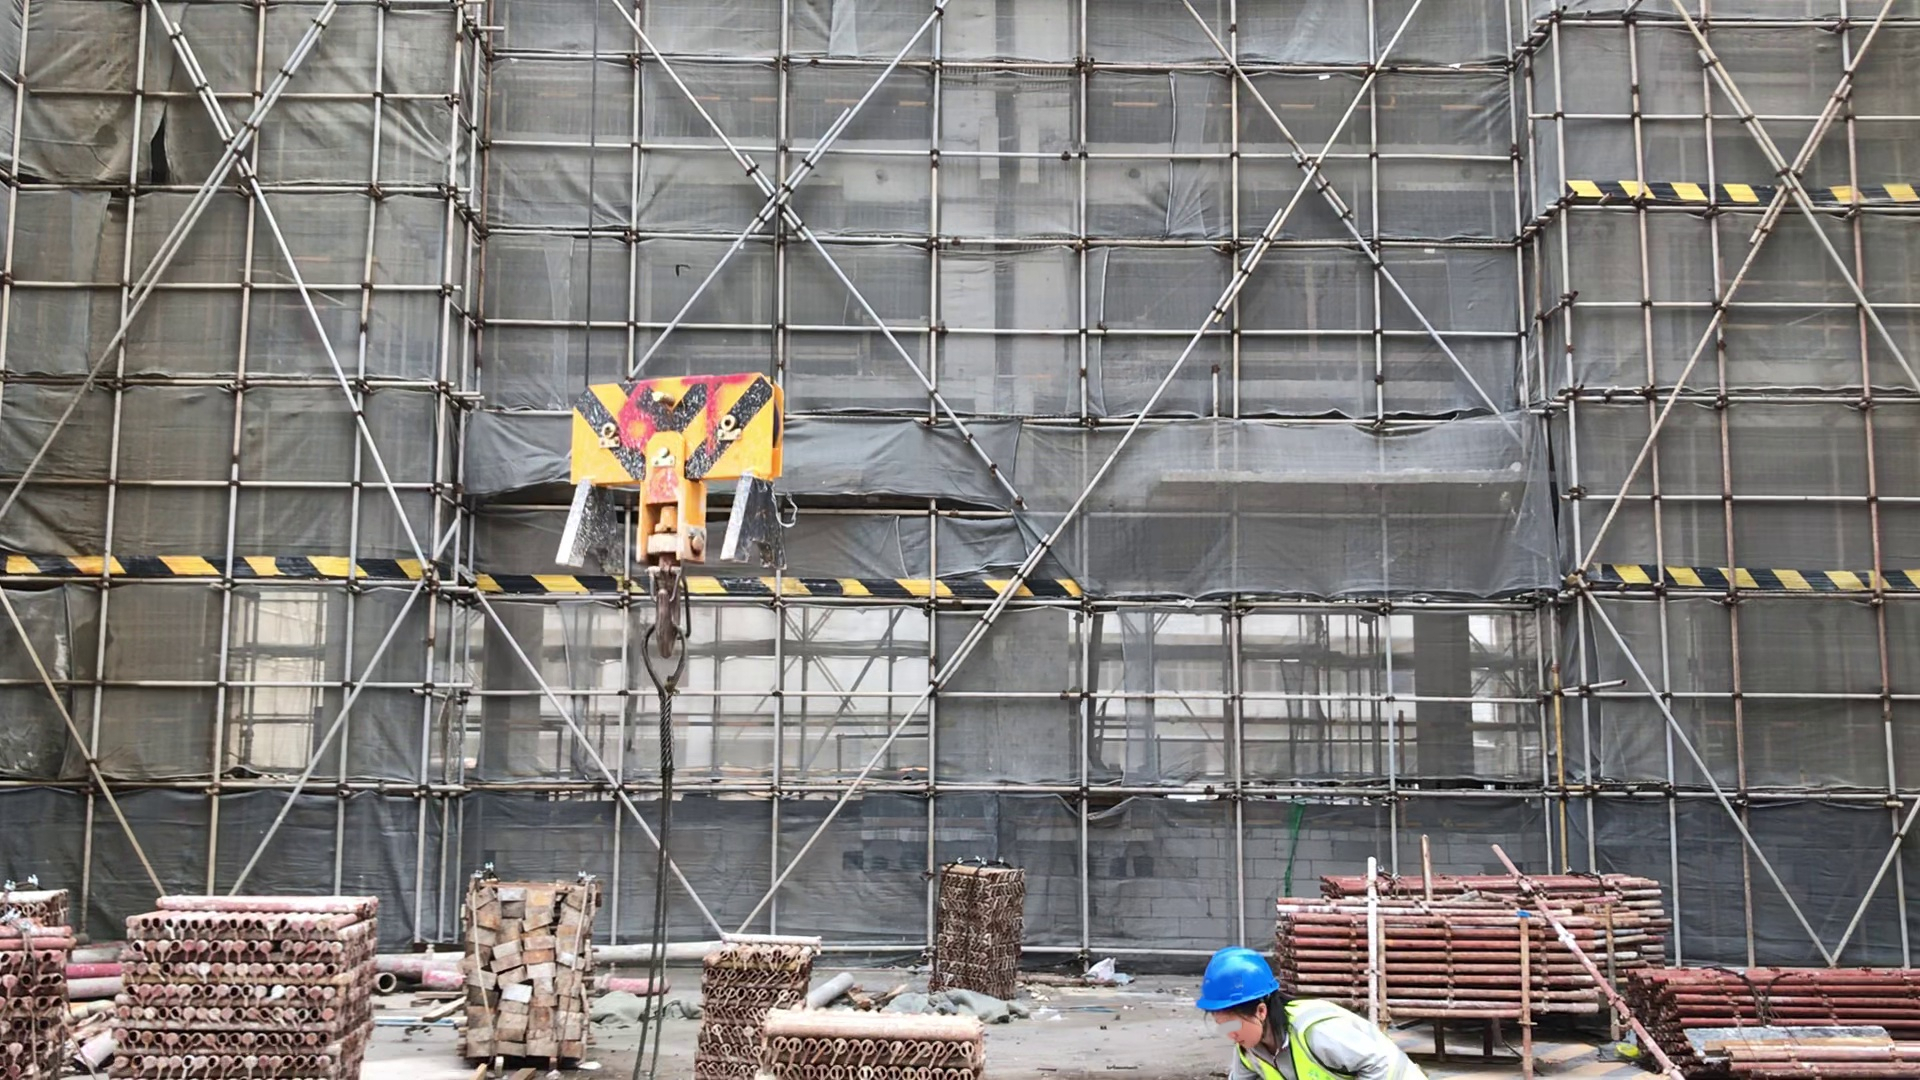helmet: (1196, 942, 1285, 1016)
hook: (556, 327, 883, 785)
person: (1170, 935, 1439, 1080)
scaffold: (1267, 861, 1920, 1075), (107, 878, 395, 1080), (690, 918, 995, 1080), (2, 866, 94, 1077)
vest: (1229, 1024, 1343, 1080)
wood: (445, 862, 616, 1080)
